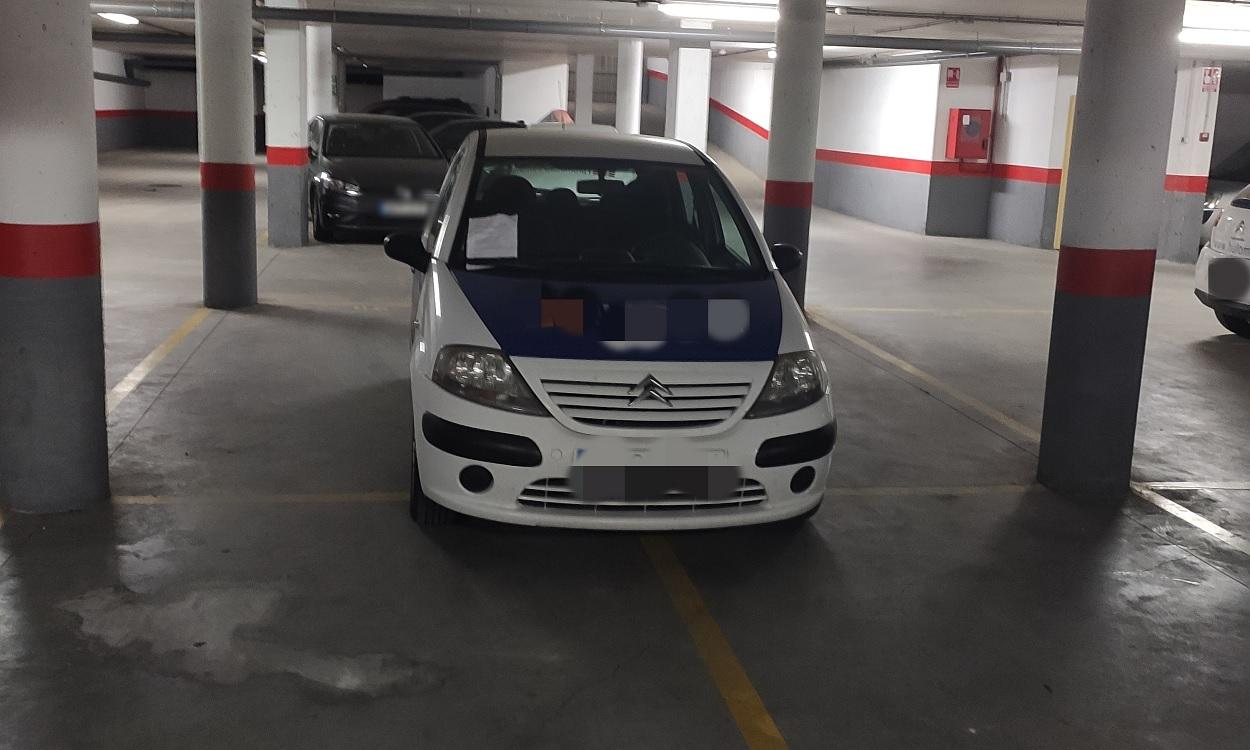car: (389, 127, 845, 533), (302, 110, 447, 239)
